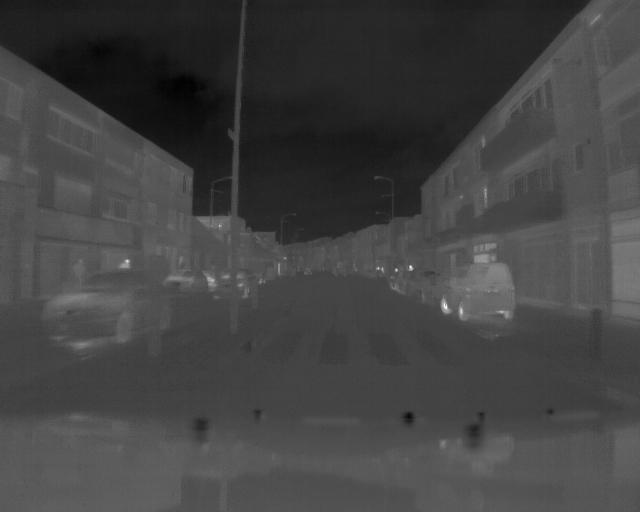car: (42, 272, 171, 351), (440, 264, 520, 322), (213, 267, 259, 298), (166, 266, 208, 298)
person: (71, 255, 87, 280), (117, 255, 132, 270)
